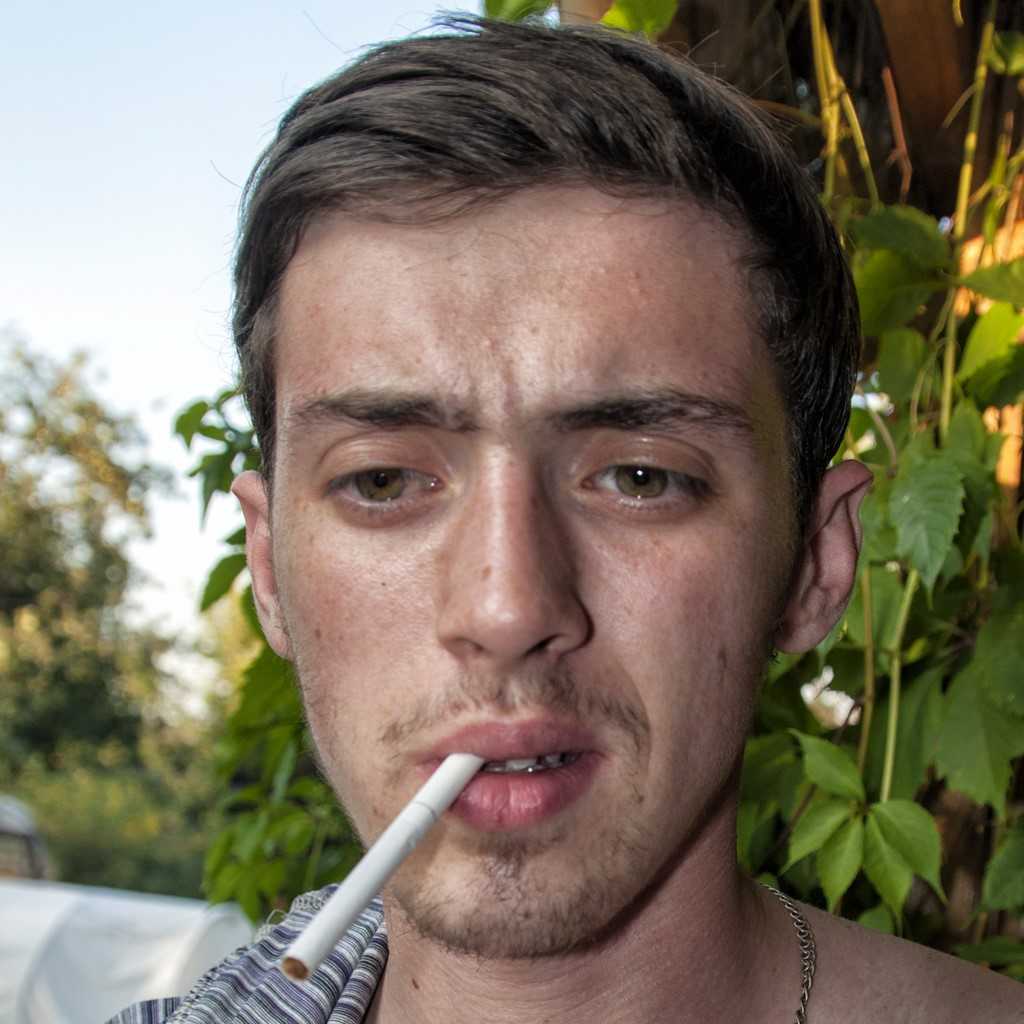sin_mascara: (265, 184, 814, 953)
